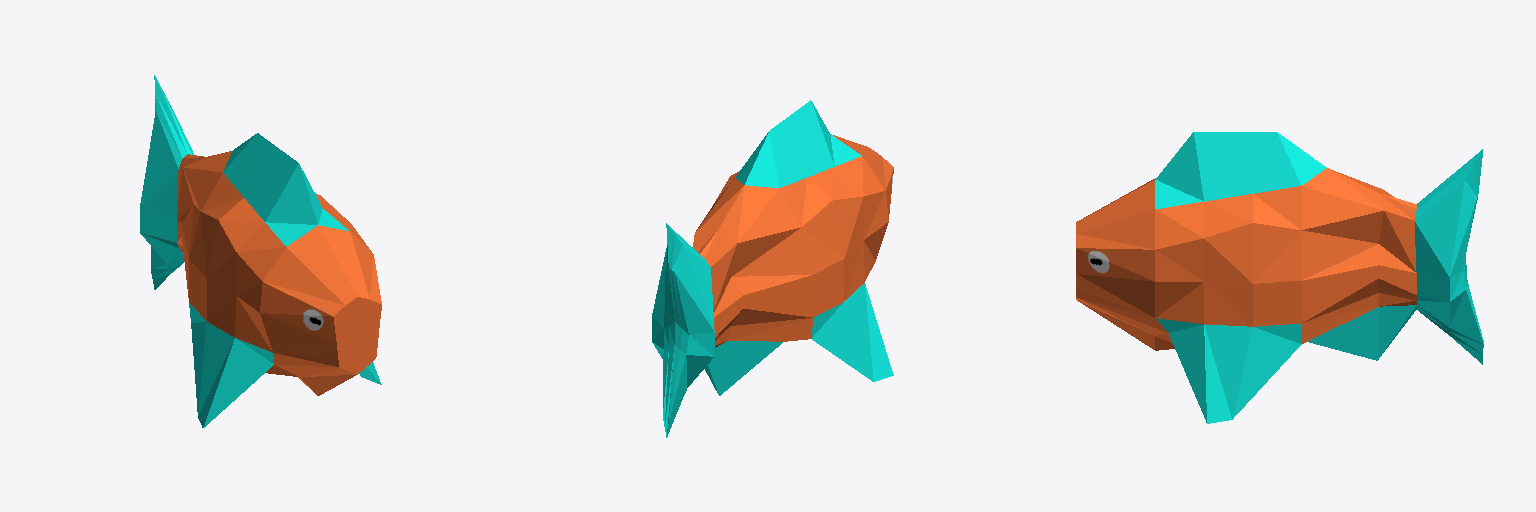
The picture shows the model from 3 angles: view 1: azimuth 30°, elevation 25°; view 2: azimuth 150°, elevation 25°; view 3: azimuth 270°, elevation 25°; orthographic projection.
Visible parts, largest first — view 1: 円柱; view 2: 円柱; view 3: 円柱.
Part boxes in pixels (x1,y1,x2,y2): 円柱: (140,75,381,427); 円柱: (652,100,893,437); 円柱: (1076,132,1483,423).
Bounding box in the file's own units: 1.28 × 1.7 × 2.52.
Materials: 1 (1 with a texture image).